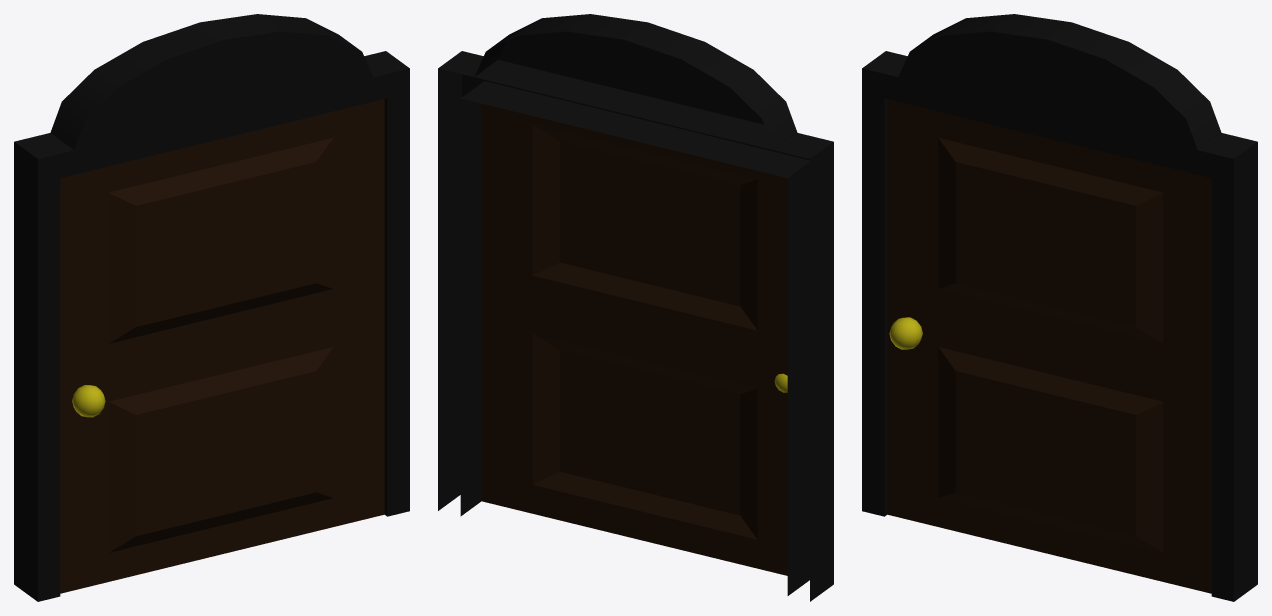
Rendered from Porta2.FBX.
3 views of the same model, side by side, from view 1: azimuth 30°, elevation 25°; view 2: azimuth 150°, elevation 25°; view 3: azimuth 330°, elevation 25° (orthographic).
Visible parts, largest first — view 1: porta2; view 2: porta2; view 3: porta2.
Part boxes in pixels (bbox=[...]): porta2: bbox=[14, 14, 409, 601]; porta2: bbox=[438, 14, 833, 601]; porta2: bbox=[862, 14, 1257, 601].
Bounding box in the file's own units: 102 × 136 × 17.
